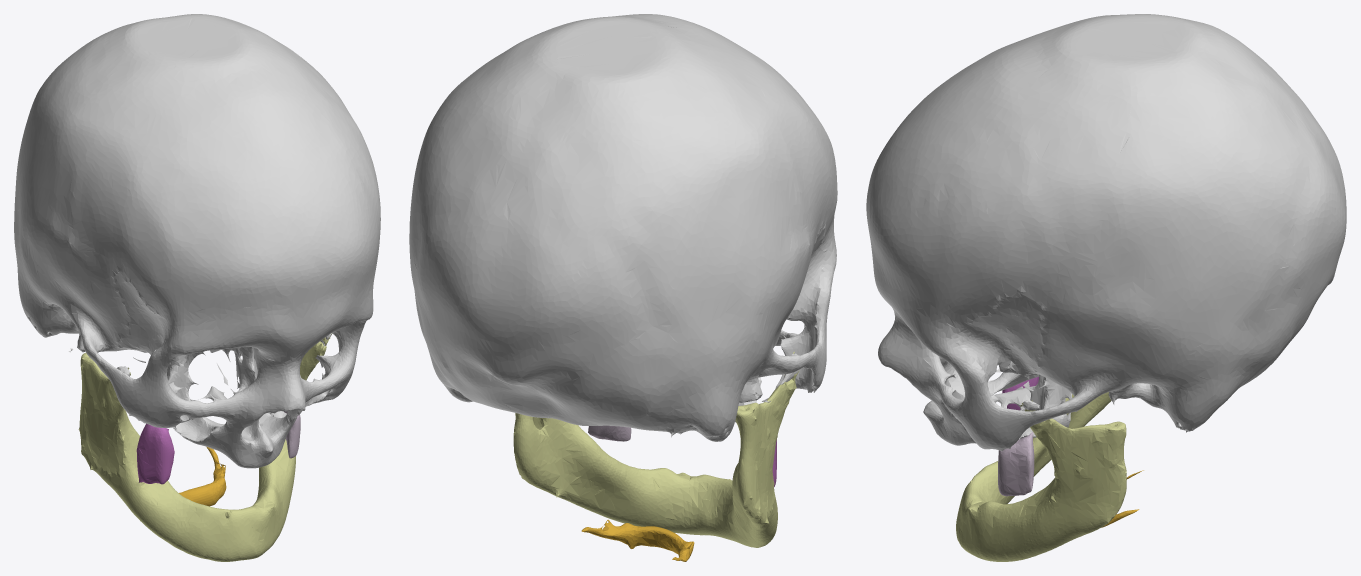
The model's file is head-bones.glb.
3 views of the same model, side by side, from view 1: azimuth 30°, elevation 25°; view 2: azimuth 150°, elevation 25°; view 3: azimuth 270°, elevation 25° (orthographic). The views are drawn at different scales.
Visible parts, largest first — view 1: Model 10 skull, Model 25 mandible, Model 64 right zygomatic muscle, Model 9 hyoid; view 2: Model 10 skull, Model 25 mandible, Model 9 hyoid, Model 63 left zygomatic muscle; view 3: Model 10 skull, Model 25 mandible, Model 63 left zygomatic muscle.
Boxes of the visible parts, bbox=[...] form: Model 10 skull: bbox=[14, 14, 380, 468]; Model 25 mandible: bbox=[78, 333, 332, 561]; Model 64 right zygomatic muscle: bbox=[136, 423, 174, 484]; Model 9 hyoid: bbox=[179, 447, 226, 506]; Model 10 skull: bbox=[409, 14, 837, 441]; Model 25 mandible: bbox=[513, 351, 799, 547]; Model 9 hyoid: bbox=[581, 519, 694, 561]; Model 63 left zygomatic muscle: bbox=[588, 425, 631, 441]; Model 10 skull: bbox=[866, 14, 1346, 451]; Model 25 mandible: bbox=[956, 392, 1126, 561]; Model 63 left zygomatic muscle: bbox=[998, 432, 1034, 496].
Bounding box in the file's own units: 140 × 212 × 179.
